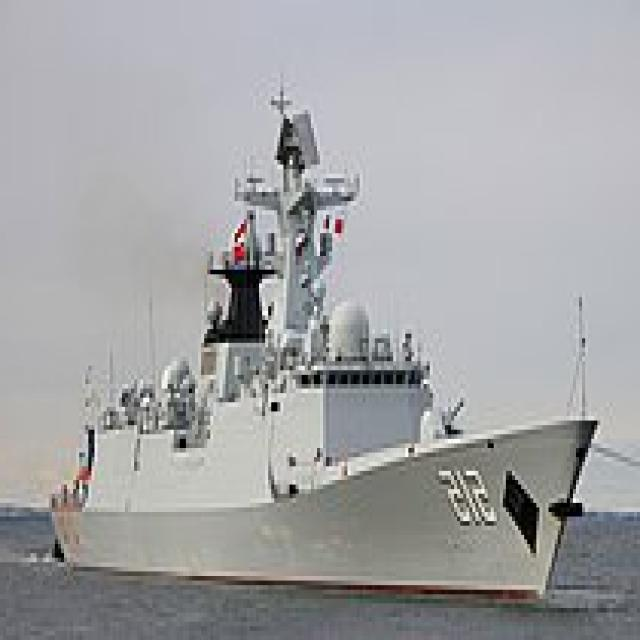Warship: (49, 69, 603, 604)
